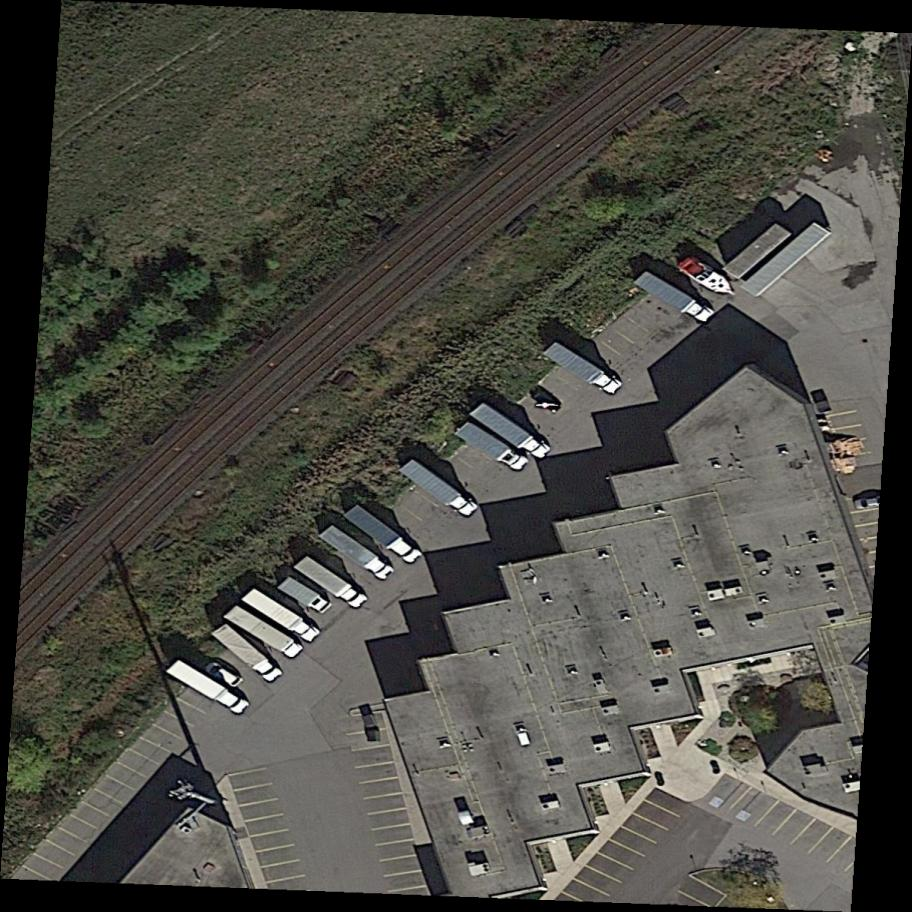large-vehicle: (343, 501, 426, 568), (470, 399, 553, 464), (165, 656, 252, 718), (399, 456, 479, 520), (318, 522, 398, 585), (211, 619, 285, 687), (633, 268, 717, 327), (543, 339, 625, 398), (241, 586, 323, 645), (223, 604, 306, 662), (293, 553, 370, 613), (454, 418, 531, 476), (278, 576, 333, 617)
ship: (674, 251, 744, 307)
small-vehicle: (201, 656, 247, 694), (527, 383, 566, 419)
